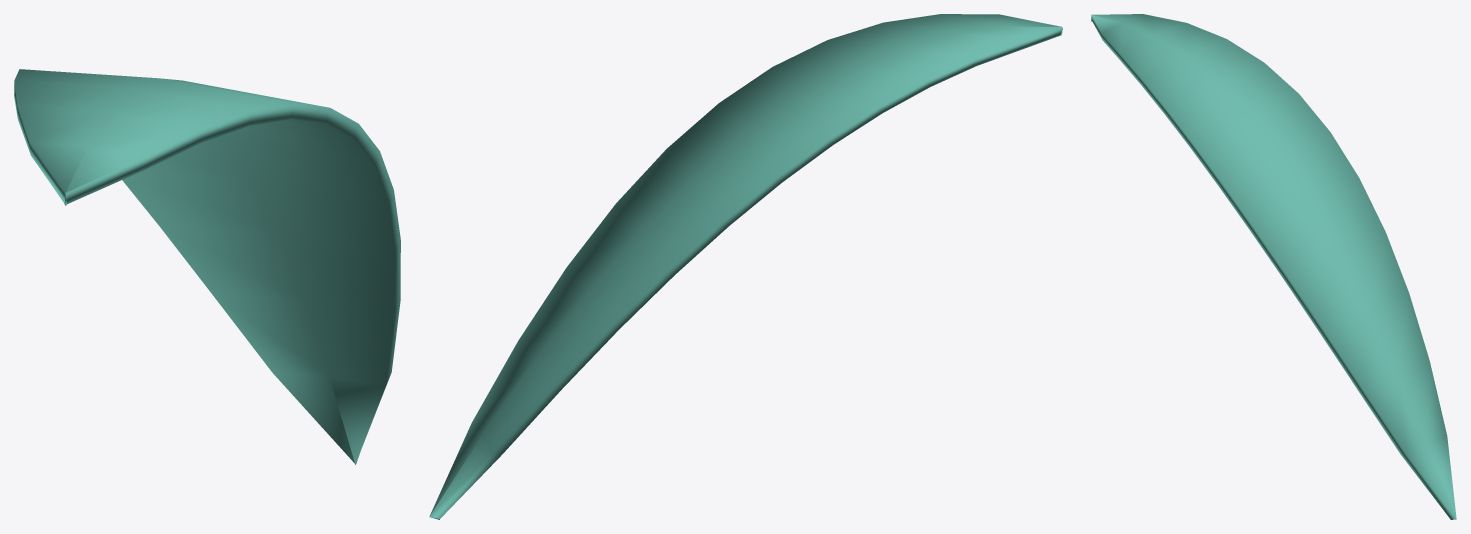
Rendered from six-incident-sharp-tip-recenter-second.glb.
3 renders of one model, left to right at view 1: azimuth 30°, elevation 25°; view 2: azimuth 150°, elevation 25°; view 3: azimuth 270°, elevation 25°, orthographic. The views are drawn at different scales.
Visible parts, largest first — view 1: DISPOSABLE EXPORT / TIP RECENTER DIAGNOSTIC / six-incident-s; view 2: DISPOSABLE EXPORT / TIP RECENTER DIAGNOSTIC / six-incident-s; view 3: DISPOSABLE EXPORT / TIP RECENTER DIAGNOSTIC / six-incident-s.
Boxes of the visible parts, x1,y1,x2,y2 form: DISPOSABLE EXPORT / TIP RECENTER DIAGNOSTIC / six-incident-s: (14, 69, 400, 464); DISPOSABLE EXPORT / TIP RECENTER DIAGNOSTIC / six-incident-s: (429, 14, 1062, 519); DISPOSABLE EXPORT / TIP RECENTER DIAGNOSTIC / six-incident-s: (1091, 14, 1456, 519).
Size of the model in its own units: 0.4938 by 0.5026 by 0.4731.
